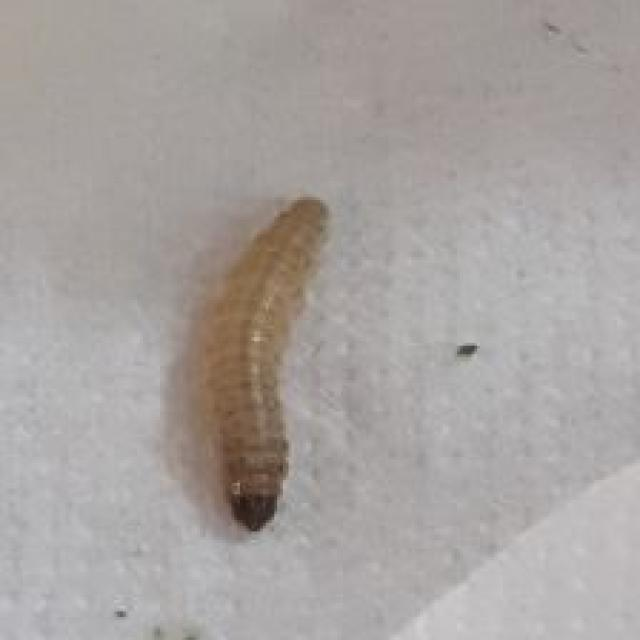white mucus: (179, 154, 369, 551)
